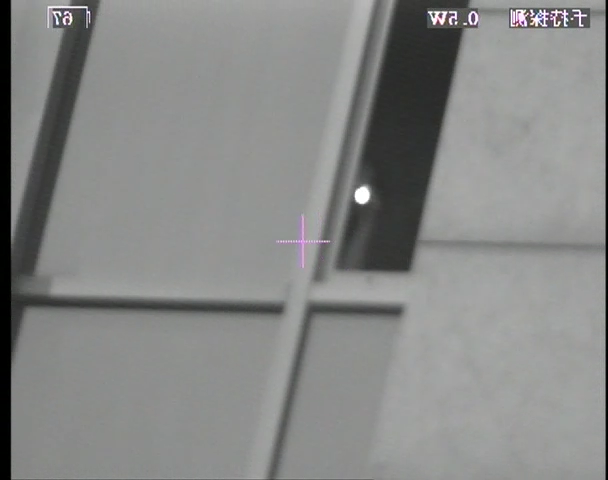my: (353, 185, 371, 205)
